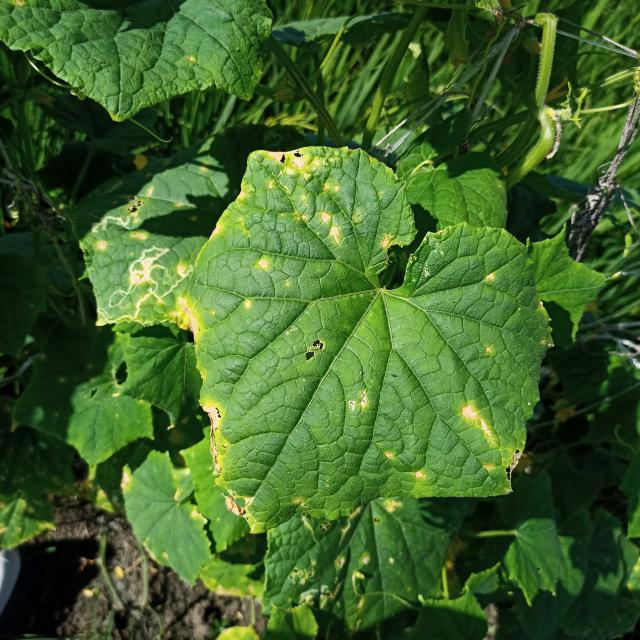disease_cucumber: (251, 147, 359, 241), (191, 401, 227, 465), (457, 403, 501, 447), (346, 387, 371, 414), (255, 256, 273, 274), (240, 298, 256, 312), (380, 450, 397, 463), (486, 270, 496, 286), (413, 470, 427, 481)
